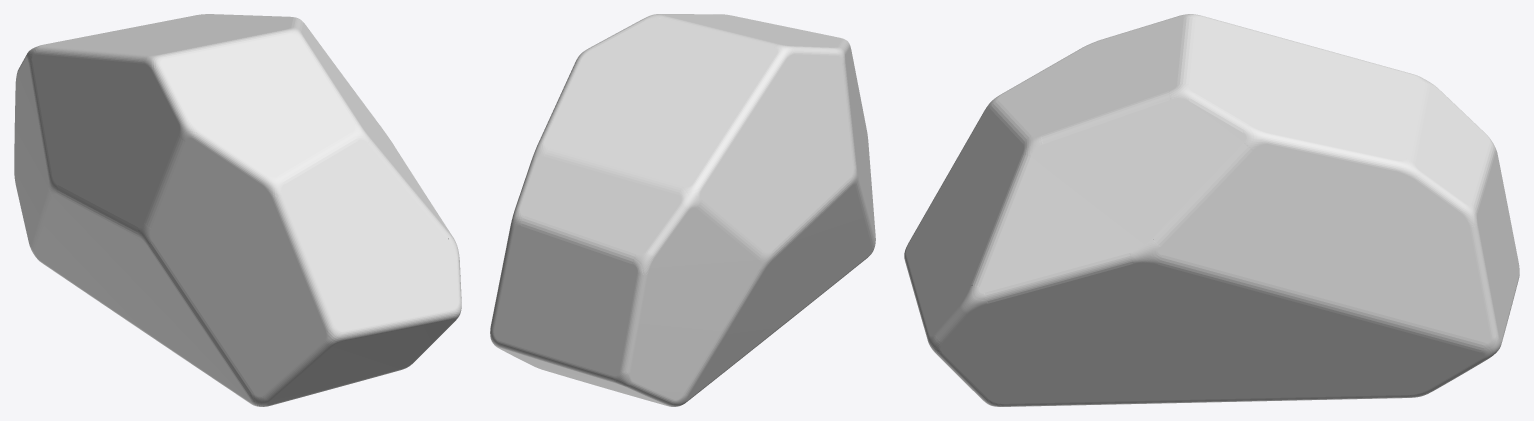
Rendered from Specta.gltf.
The picture shows the model from 3 angles, left to right: view 1: azimuth 30°, elevation 25°; view 2: azimuth 150°, elevation 25°; view 3: azimuth 270°, elevation 25°; orthographic projection. The views are drawn at different scales.
Visible parts, largest first — view 1: specta low res; view 2: specta low res; view 3: specta low res.
Part boxes in pixels (x1,y1,x2,y2): specta low res: (14, 14, 461, 406); specta low res: (490, 14, 875, 406); specta low res: (904, 14, 1519, 406).
Size of the model in its own units: 0.5437 by 0.5763 by 1.04.
1 material, 1 textured.
